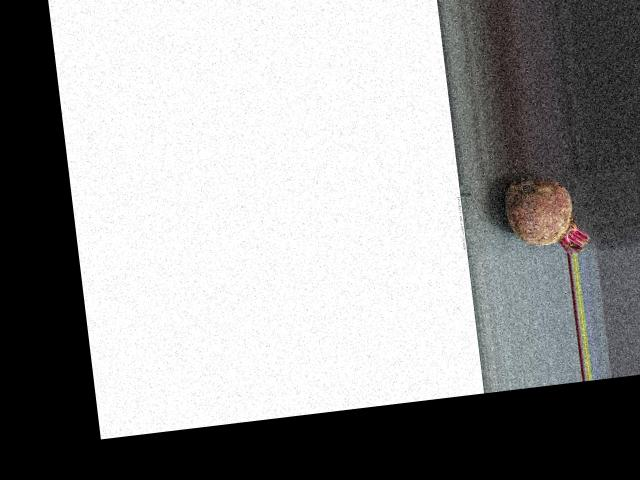beet: (502, 172, 590, 261)
